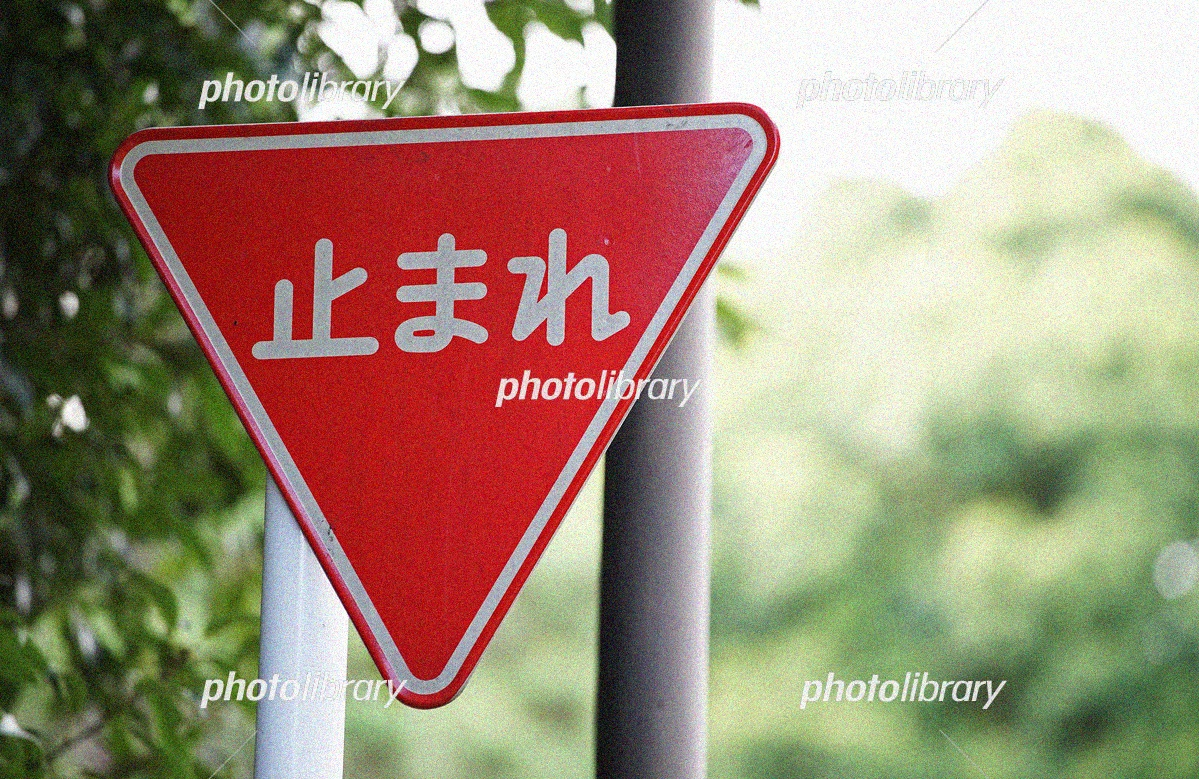Regulatory_sign_triangle: (95, 88, 805, 701)
